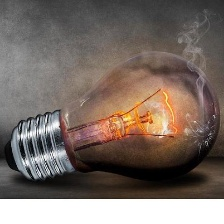light_bulb: (0, 47, 222, 190)
